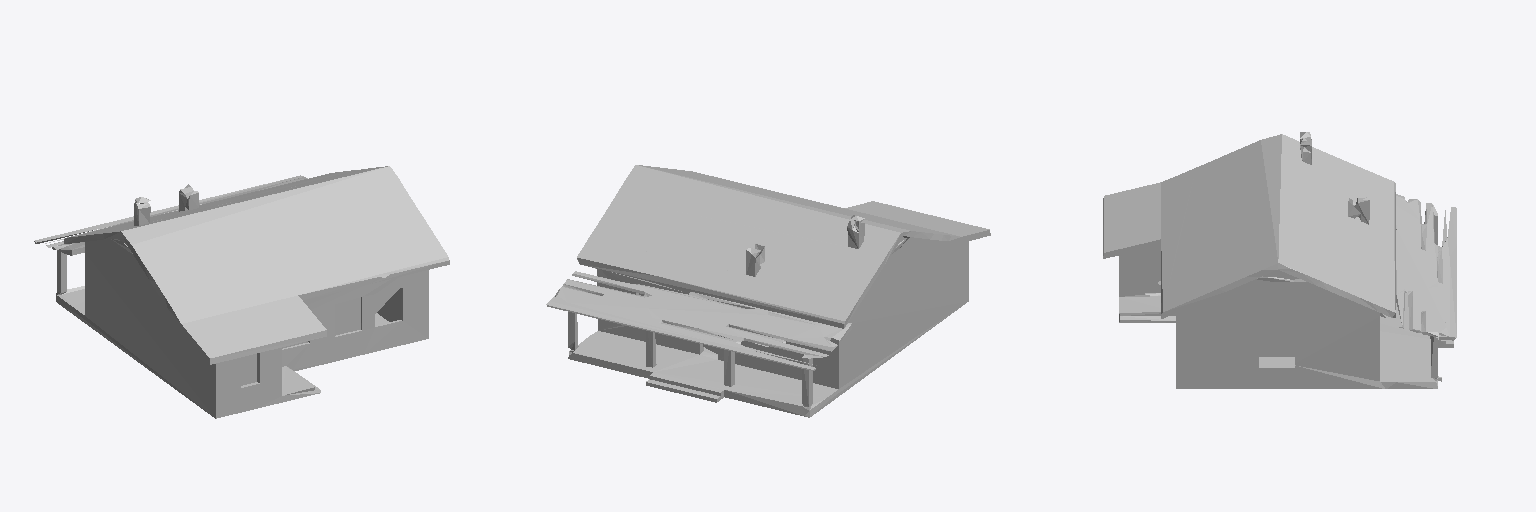
Rendered from house deform.obj.
3 views of the same model, side by side, from view 1: azimuth 30°, elevation 25°; view 2: azimuth 150°, elevation 25°; view 3: azimuth 270°, elevation 25° (orthographic).
Parts seen in each view (by area): view 1: Cottage_Free; view 2: Cottage_Free; view 3: Cottage_Free.
Boxes of the visible parts, x1=… form: Cottage_Free: x1=34, y1=166, x2=449, y2=418; Cottage_Free: x1=546, y1=165, x2=990, y2=417; Cottage_Free: x1=1103, y1=132, x2=1456, y2=388.
Size of the model in its own units: 12.45 by 6.61 by 14.18.